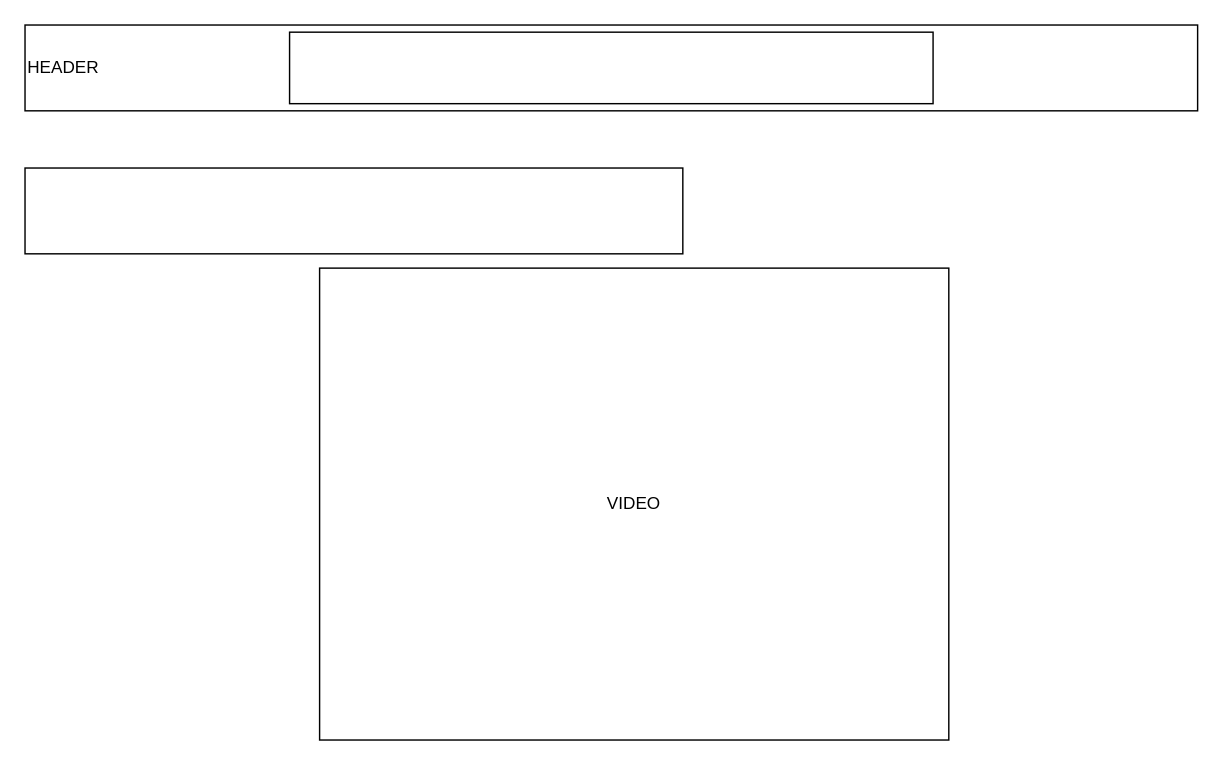
This 1223x765 diagram has some shape labels left out. Here are the shapes that lost their labels. From the top down, the centre of each, then its label:
At pixel 610 67: "PRENOTA".
At pixel 353 210: "Backstage COME PRIPRYAT, canzone del nuovo album".
